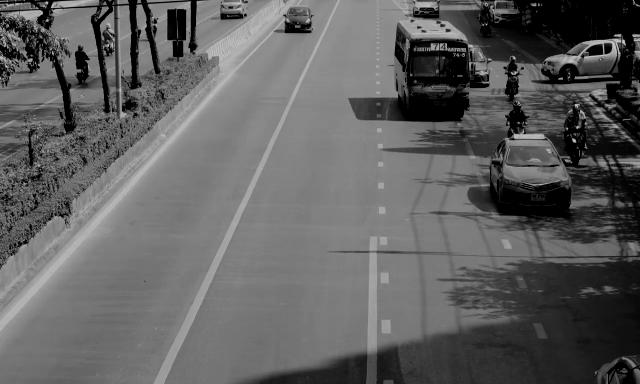carro: (488, 135, 572, 212), (540, 36, 640, 82), (462, 45, 492, 87), (282, 5, 315, 34), (411, 0, 442, 18), (219, 0, 249, 17)
moto: (566, 124, 590, 165), (503, 72, 522, 101), (504, 119, 528, 139), (75, 63, 91, 86), (524, 17, 540, 39), (102, 38, 119, 57), (145, 24, 158, 42), (481, 19, 492, 38)
onibus: (393, 17, 470, 119)
